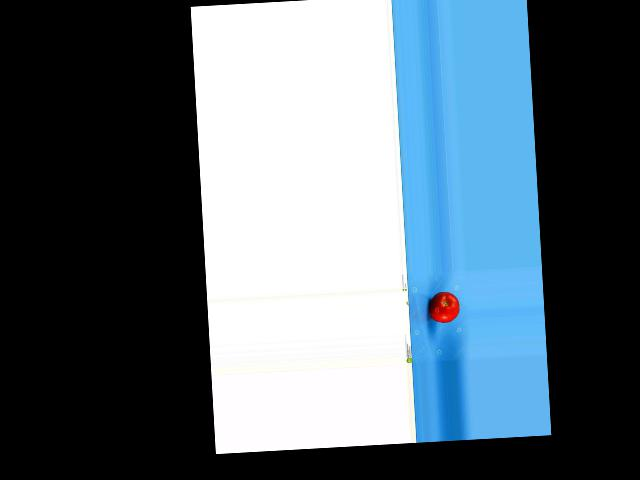tomato: (428, 290, 459, 323)
